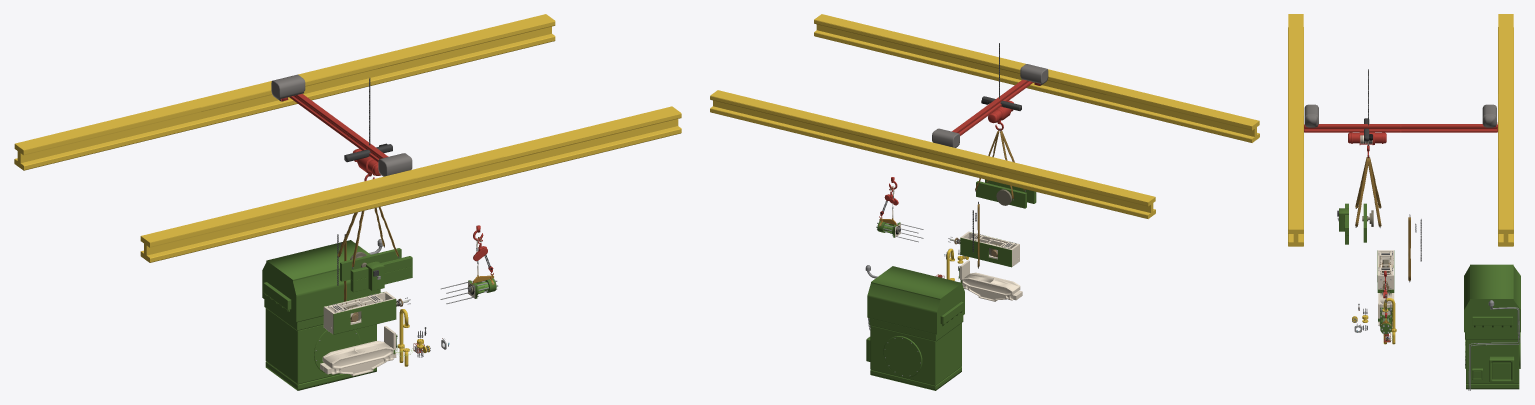
Rendered from hypercompresser_model3d_save04.fbx.
3 views of the same model, side by side, from view 1: azimuth 30°, elevation 25°; view 2: azimuth 150°, elevation 25°; view 3: azimuth 270°, elevation 25° (orthographic). The views are drawn at different scales.
Parts seen in each view (by area): view 1: Cube.058, Cube.060, Cube.077, Cube.068, Cube.085, left.001, Cube.072, right.001; view 2: Cube.060, Cube.058, Cube.077, Cube.068, Cube.085, Cube.072, right.001; view 3: Cube.077, Cube.058, Cube.060, Cube.068, Cube.062, left.001, Cube.054, Cube.023, Cube.064.
Boxes of the visible parts, x1,y1,x2,y2 form: Cube.058: (140, 106, 681, 262); Cube.060: (14, 14, 555, 170); Cube.077: (262, 239, 383, 390); Cube.068: (271, 74, 412, 176); Cube.085: (320, 341, 396, 376); left.001: (350, 256, 412, 292); Cube.072: (326, 292, 396, 334); right.001: (340, 248, 401, 281); Cube.060: (710, 90, 1155, 218); Cube.058: (814, 14, 1259, 142); Cube.077: (865, 265, 964, 390); Cube.068: (932, 64, 1048, 147); Cube.085: (960, 272, 1022, 301); Cube.072: (960, 232, 1011, 267); right.001: (976, 181, 1026, 208); Cube.077: (1464, 264, 1520, 390); Cube.058: (1288, 14, 1303, 246); Cube.060: (1498, 14, 1513, 246); Cube.068: (1304, 104, 1497, 132); Cube.062: (1348, 132, 1386, 144); left.001: (1339, 203, 1348, 244); Cube.054: (1368, 158, 1381, 227); Cube.023: (1355, 156, 1369, 227); Cube.064: (1378, 275, 1393, 292).
Bounding box in the file's own units: 36691 × 23395 × 16727.
